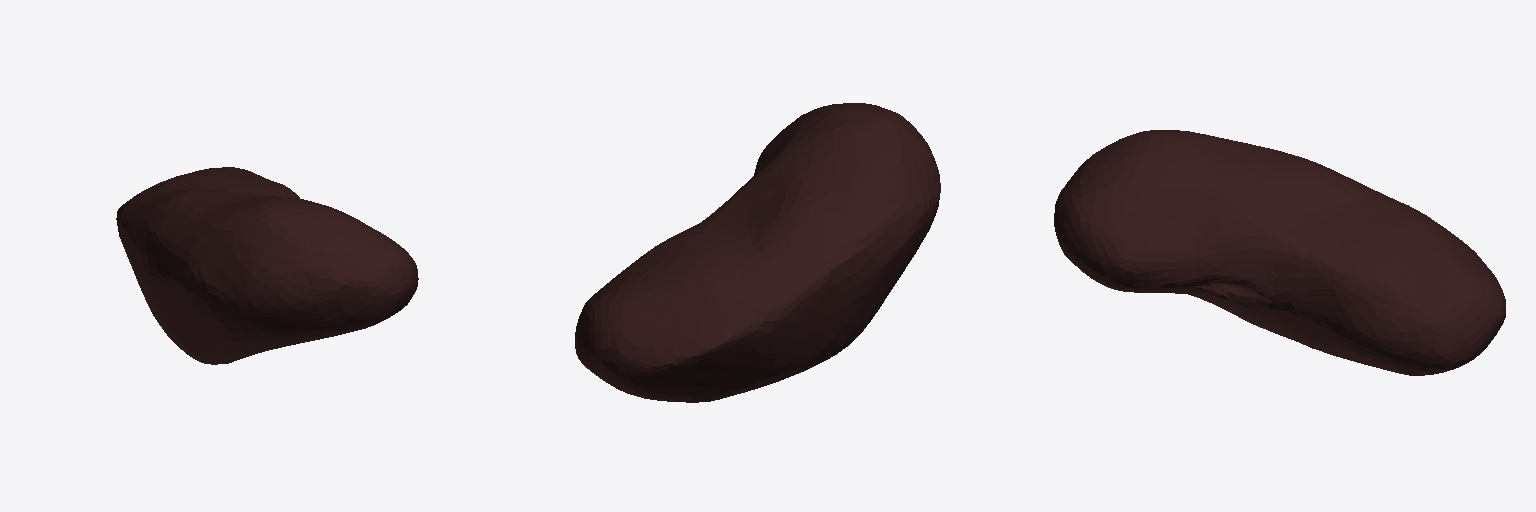
File: kidney_chole.obj
The picture shows the model from 3 angles: view 1: azimuth 30°, elevation 25°; view 2: azimuth 150°, elevation 25°; view 3: azimuth 270°, elevation 25°; orthographic projection.
Visible parts, largest first — view 1: kidney_chole_Model::org.Ren_dexter.007; view 2: kidney_chole_Model::org.Ren_dexter.007; view 3: kidney_chole_Model::org.Ren_dexter.007.
Part boxes in pixels (bbox=[...]): kidney_chole_Model::org.Ren_dexter.007: bbox=[116, 167, 418, 364]; kidney_chole_Model::org.Ren_dexter.007: bbox=[575, 103, 940, 402]; kidney_chole_Model::org.Ren_dexter.007: bbox=[1054, 130, 1505, 375].
Size of the model in its own units: 3.97 by 3.4 by 6.88.